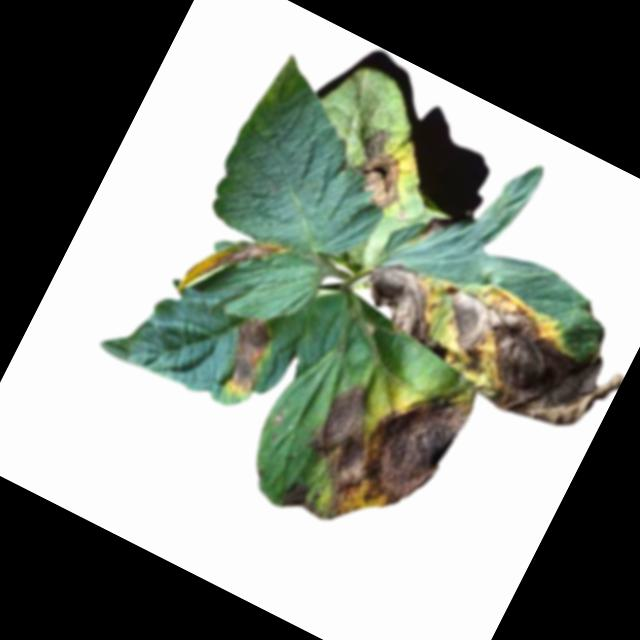Early_blight: (342, 231, 632, 449), (283, 336, 484, 556), (175, 210, 291, 329), (331, 117, 425, 215), (211, 310, 283, 401), (412, 217, 442, 253)
